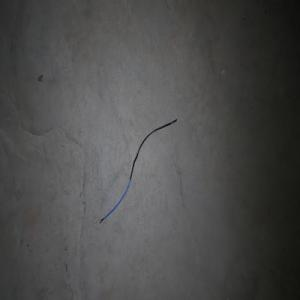Wire: (99, 118, 177, 223)
